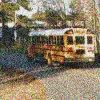buses: (26, 29, 100, 69)
